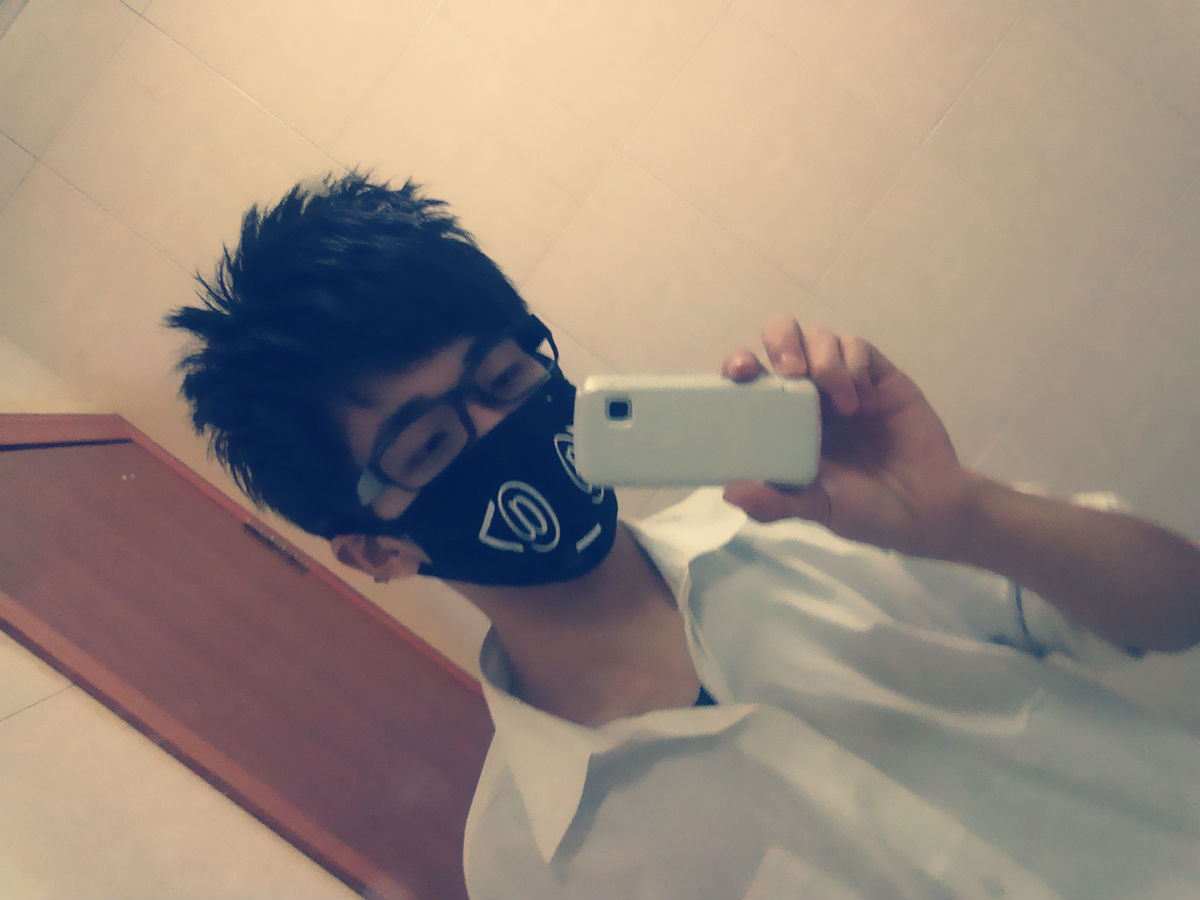face_mask: (332, 325, 620, 583)
